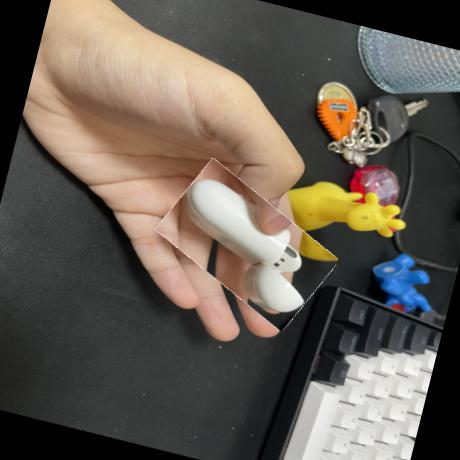airpod2: (147, 164, 346, 324)
